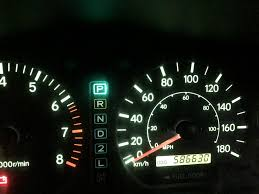Digital_Meter: (156, 155, 215, 169)
